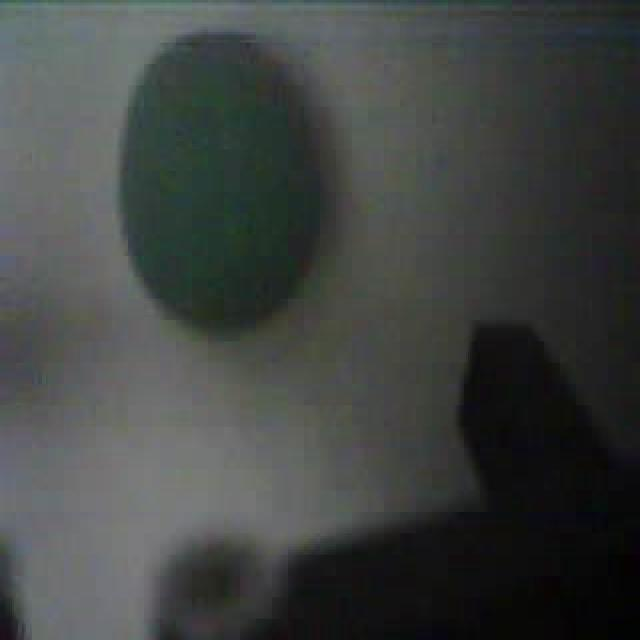green_ball: (114, 27, 326, 333)
